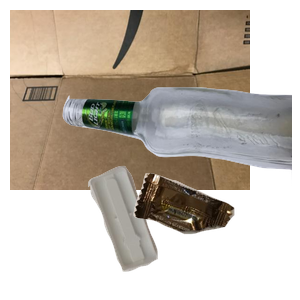cardboard: (10, 10, 250, 190)
glass: (60, 84, 300, 260)
plastic: (85, 163, 235, 300)
trash: (131, 171, 300, 300)
